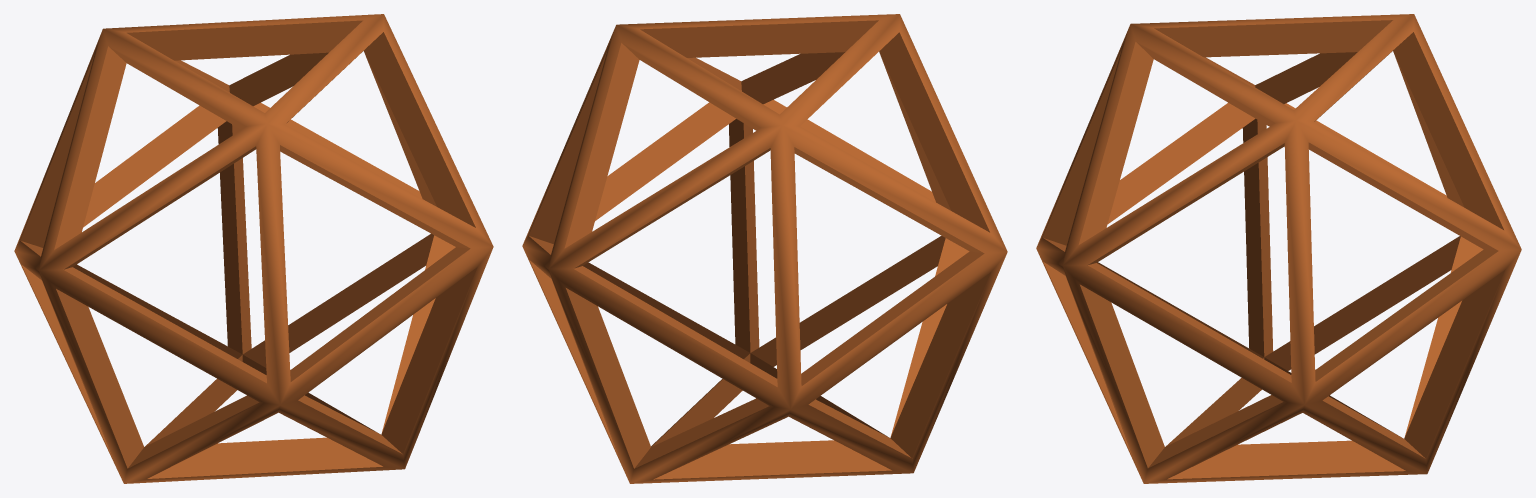
The model's file is prop_039.fbx.
3 renders of one model, left to right at view 1: azimuth 30°, elevation 25°; view 2: azimuth 150°, elevation 25°; view 3: azimuth 270°, elevation 25°, orthographic.
Parts seen in each view (by area): view 1: prop_039; view 2: prop_039; view 3: prop_039.
Part boxes in pixels (x1,y1,x2,y2): prop_039: (14,14,493,483); prop_039: (522,14,1007,483); prop_039: (1036,14,1521,483).
Bounding box in the file's own units: 25.85 × 23.64 × 21.13.
